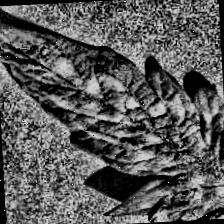leaf mold: (0, 2, 224, 224)
